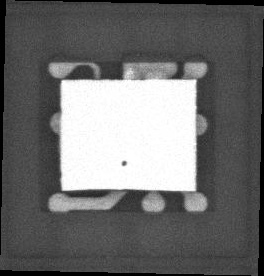DIE_INK: (114, 165, 122, 175)
